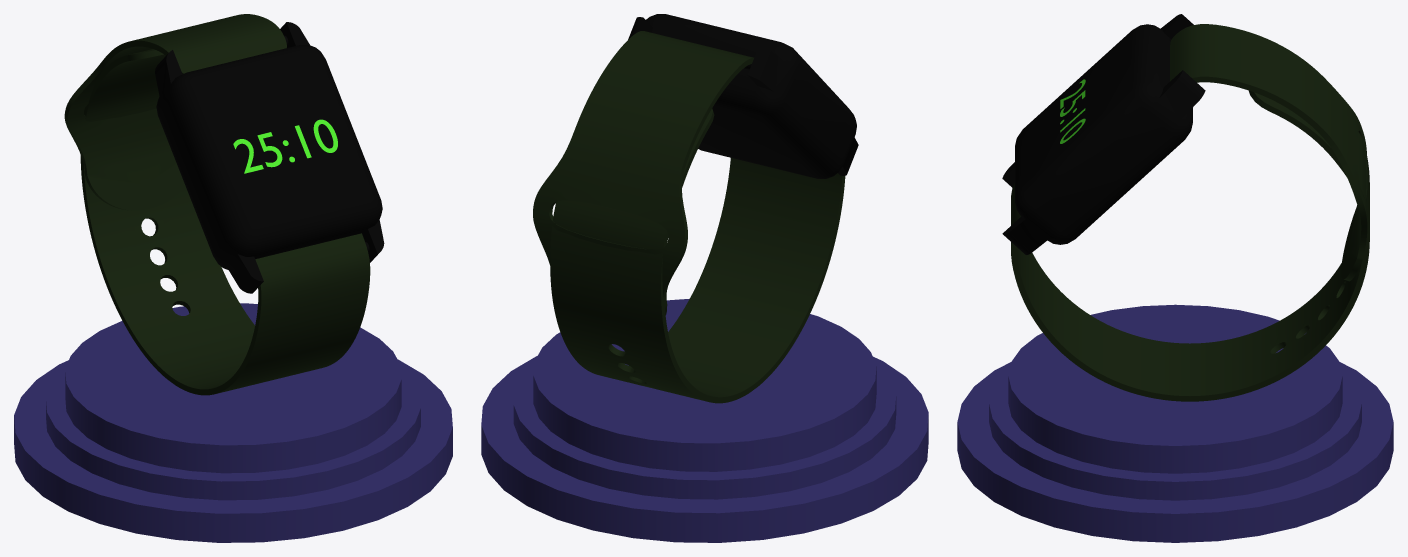
3 views of the same model, side by side, from view 1: azimuth 30°, elevation 25°; view 2: azimuth 150°, elevation 25°; view 3: azimuth 270°, elevation 25° (orthographic). The views are drawn at different scales.
Parts seen in each view (by area): view 1: Cylinder, strap, fitness_tracker_watch, Text; view 2: strap, Cylinder, fitness_tracker_watch; view 3: Cylinder, strap, fitness_tracker_watch.
Boxes of the visible parts, x1=… form: Cylinder: x1=14, y1=303, x2=452, y2=542; strap: x1=64, y1=14, x2=370, y2=395; fitness_tracker_watch: x1=155, y1=22, x2=384, y2=293; Text: x1=233, y1=119, x2=337, y2=173; strap: x1=533, y1=31, x2=845, y2=403; Cylinder: x1=481, y1=298, x2=928, y2=542; fitness_tracker_watch: x1=628, y1=14, x2=858, y2=178; Cylinder: x1=957, y1=304, x2=1393, y2=542; strap: x1=1011, y1=24, x2=1369, y2=401; fitness_tracker_watch: x1=1002, y1=14, x2=1205, y2=254.
Size of the model in its own units: 428 by 442 by 428.
